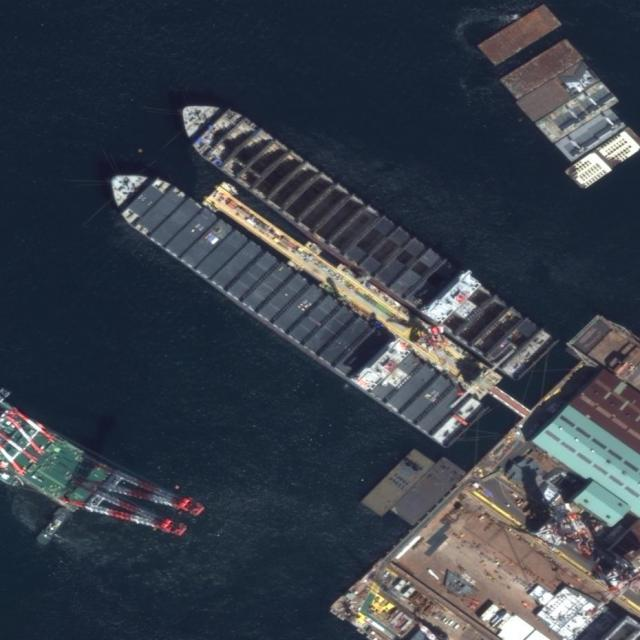Cargo: (164, 78, 563, 388), (92, 153, 496, 458)
Dock: (200, 175, 535, 425)
